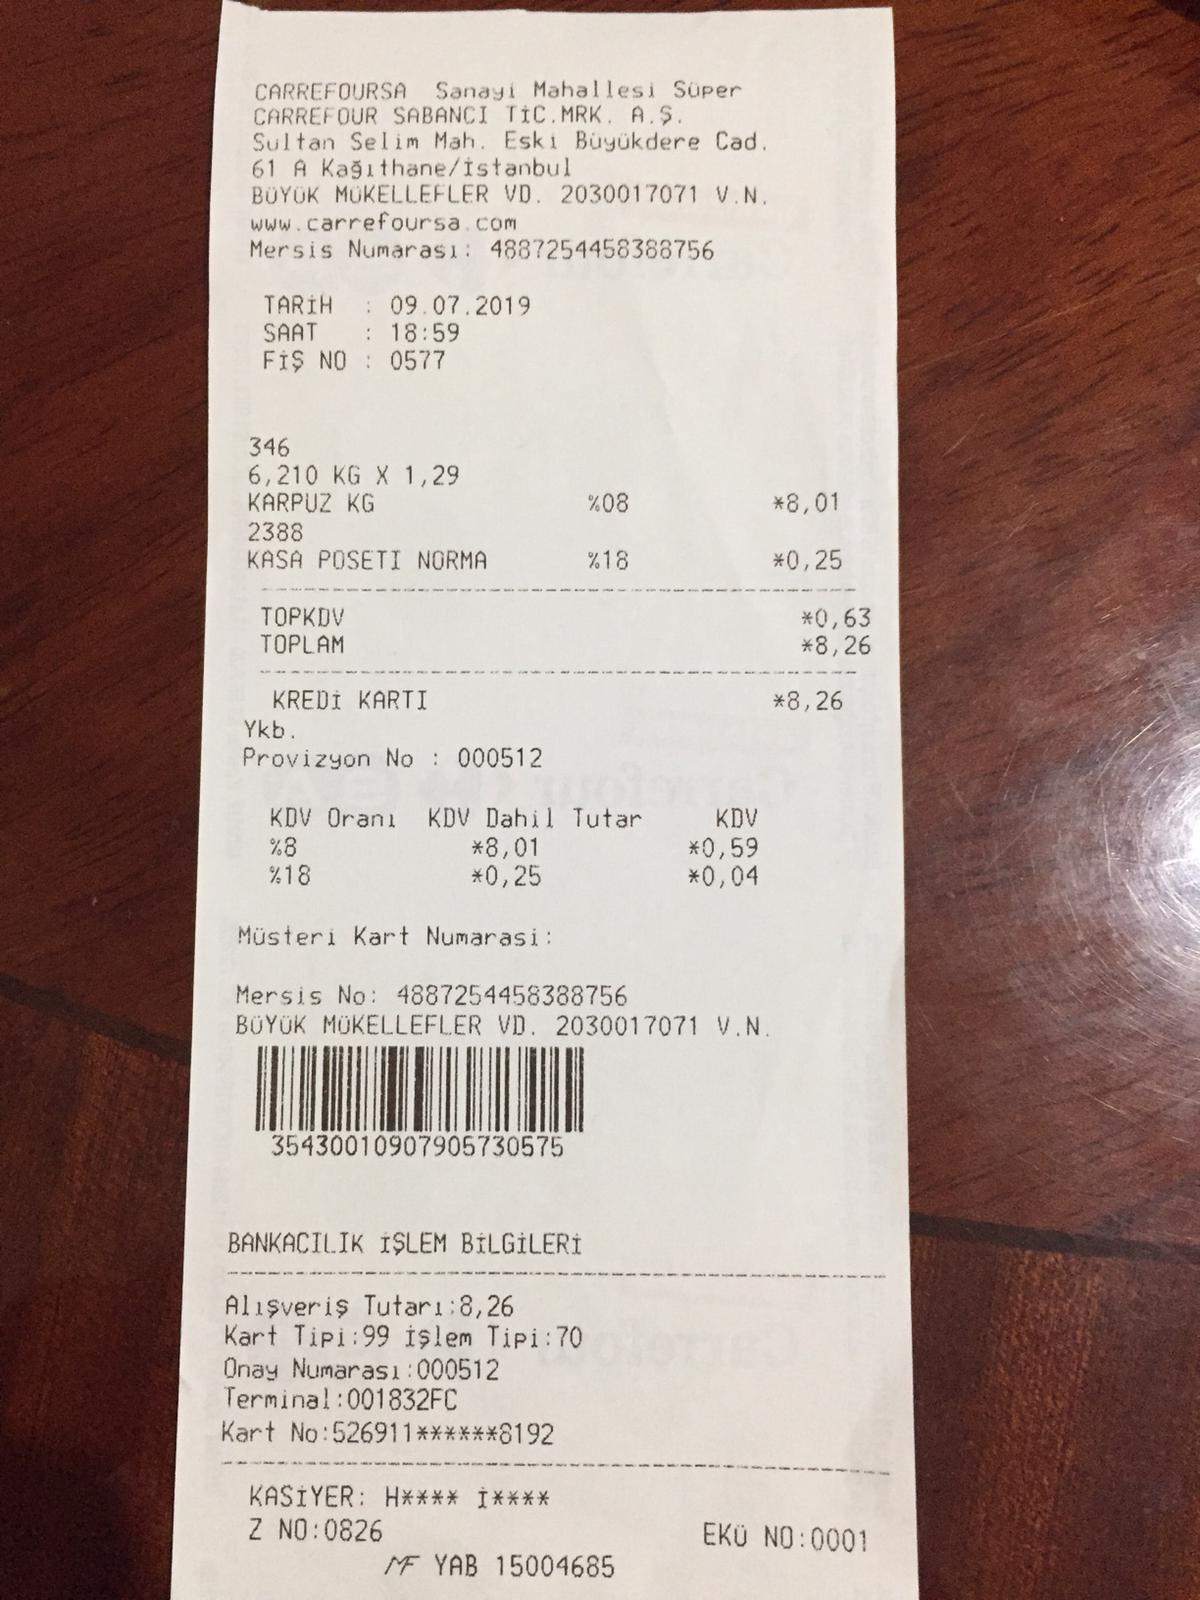total: (260, 628, 880, 665)
